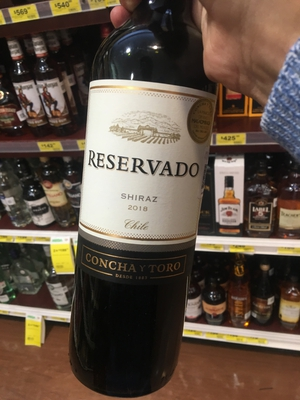reservado shiraz: (72, 12, 218, 377)
